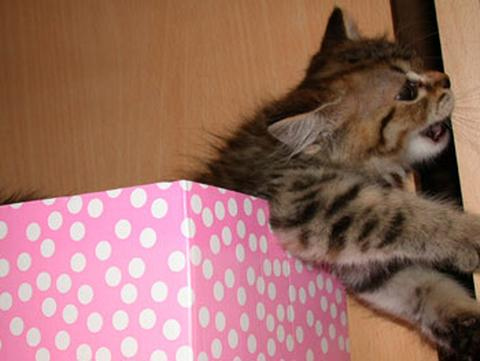cat: (196, 7, 480, 361)
